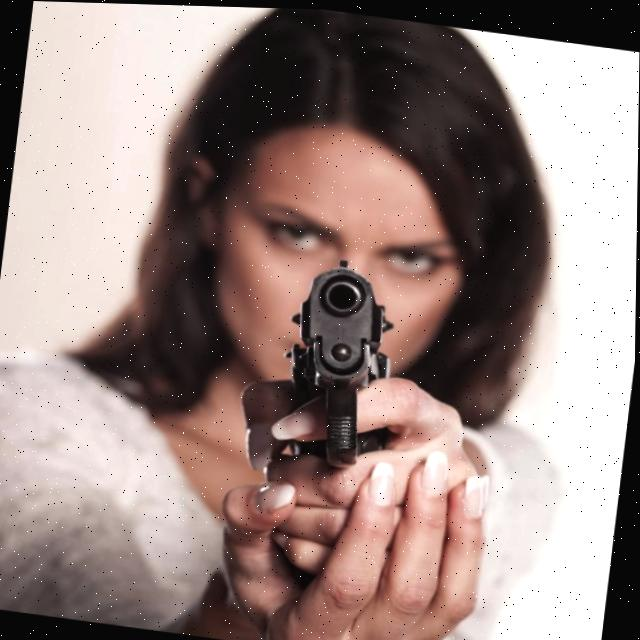pistol: (279, 250, 402, 464)
